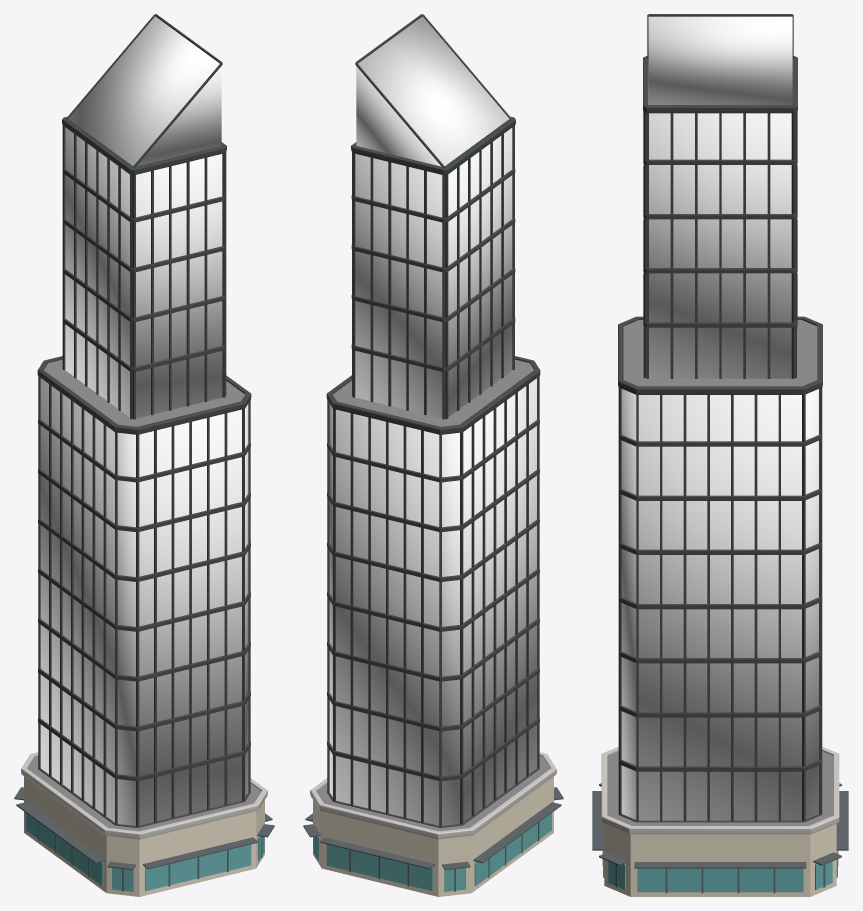
The model's file is tower_slant_green.glb.
The picture shows the model from 3 angles, left to right: view 1: azimuth 30°, elevation 25°; view 2: azimuth 150°, elevation 25°; view 3: azimuth 270°, elevation 25°; orthographic projection. The views are drawn at different scales.
Parts seen in each view (by area): view 1: curtain, mullions, tower trim, tower props; view 2: curtain, mullions, tower trim, tower props; view 3: curtain, tower trim, mullions, tower props.
Part boxes in pixels (bbox=[...]): curtain: bbox=[40, 16, 248, 825]; mullions: bbox=[38, 14, 262, 891]; tower trim: bbox=[21, 116, 267, 896]; tower props: bbox=[14, 787, 274, 891]; curtain: bbox=[329, 16, 536, 825]; mullions: bbox=[315, 14, 539, 891]; tower trim: bbox=[310, 116, 556, 896]; tower props: bbox=[303, 787, 563, 891]; curtain: bbox=[621, 16, 818, 820]; tower trim: bbox=[601, 56, 839, 896]; mullions: bbox=[602, 14, 838, 893]; tower props: bbox=[592, 783, 848, 892].
Bounding box in the file's own units: 26.9 × 115 × 30.9.
